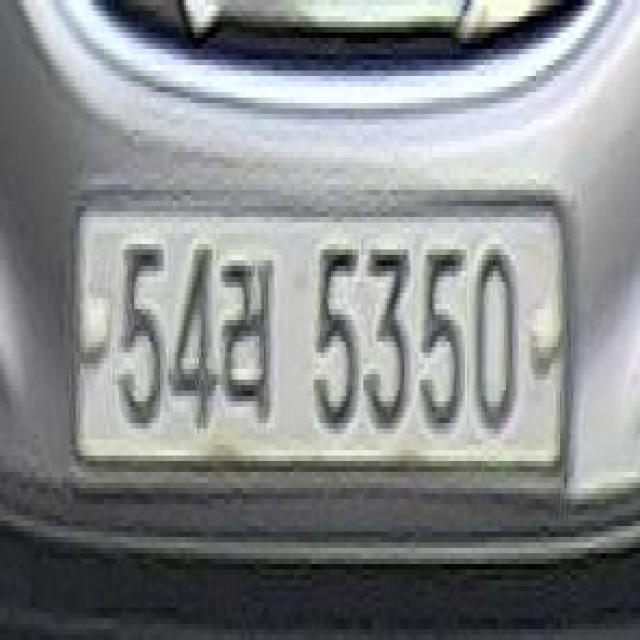0: (469, 243, 522, 440)
3: (362, 250, 412, 436)
4: (168, 237, 224, 436)
5: (414, 237, 468, 435), (113, 233, 166, 428), (310, 238, 362, 433)
leo: (224, 249, 278, 438)
license_plate: (66, 172, 576, 502)
